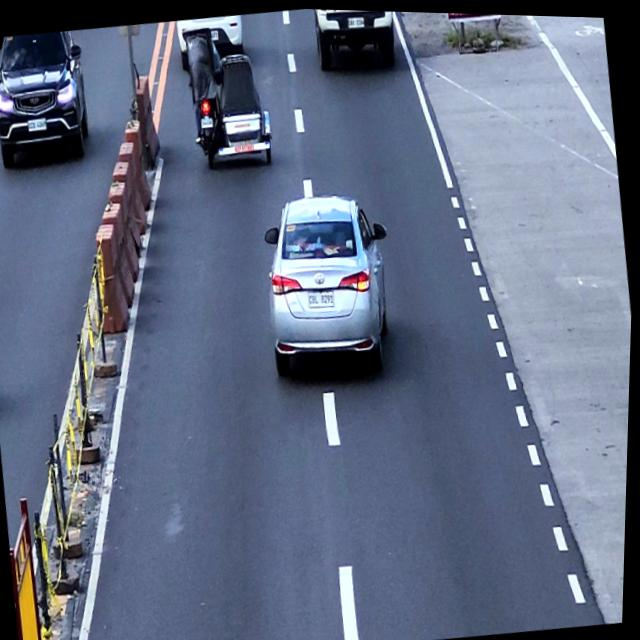Car: (255, 178, 405, 381), (0, 27, 95, 170), (311, 7, 399, 72), (174, 11, 246, 71)
License-Plate: (308, 286, 338, 307), (27, 117, 48, 131), (347, 12, 365, 27), (201, 115, 214, 128), (210, 28, 220, 40)
Tricycle: (180, 19, 279, 171)
